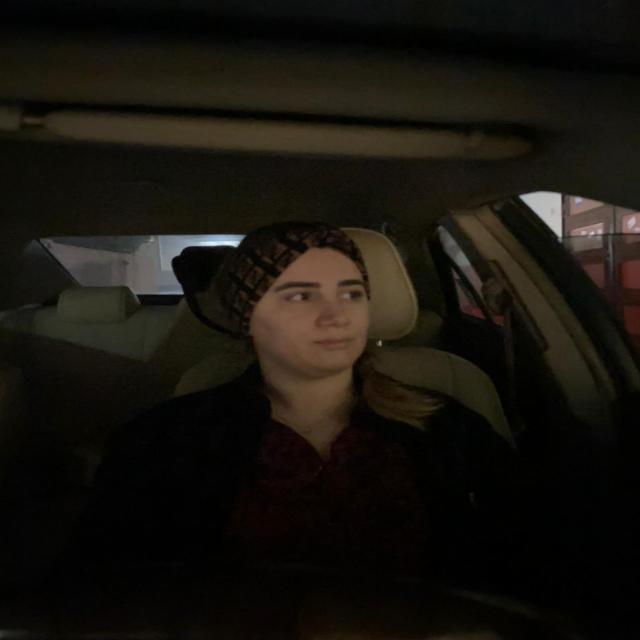LeftRight: (206, 214, 379, 379)
